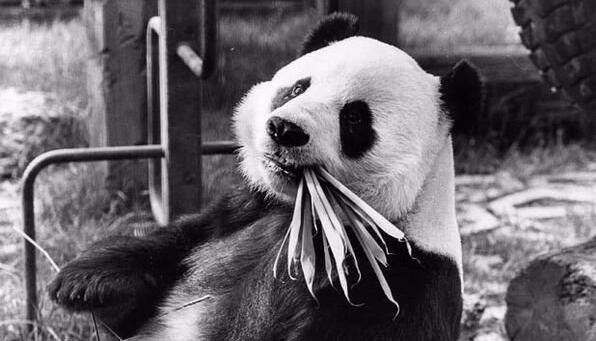panda: (64, 13, 492, 341)
